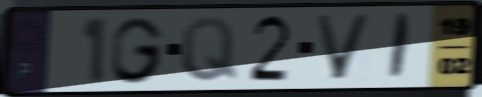1: (78, 15, 109, 87)
2: (249, 13, 295, 84)
G: (109, 14, 167, 86)
I: (386, 11, 415, 83)
Q: (179, 14, 240, 85)
V: (311, 13, 376, 83)
